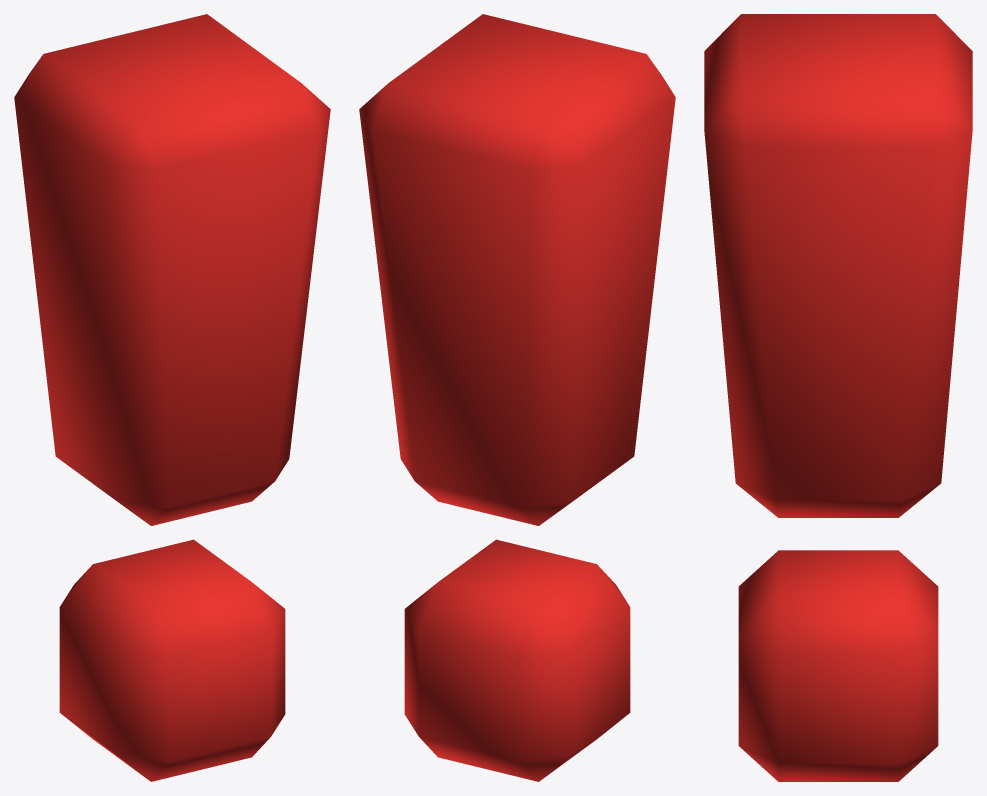
The model's file is huuto.glb.
3 views of the same model, side by side, from view 1: azimuth 30°, elevation 25°; view 2: azimuth 150°, elevation 25°; view 3: azimuth 270°, elevation 25° (orthographic). The views are drawn at different scales.
Parts seen in each view (by area): view 1: Cube; view 2: Cube; view 3: Cube.
Part boxes in pixels (x1,y1,x2,y2): Cube: (14, 14, 330, 781); Cube: (359, 14, 675, 781); Cube: (704, 14, 972, 781).
Bounding box in the file's own units: 0.1845 × 0.5322 × 0.1845.
